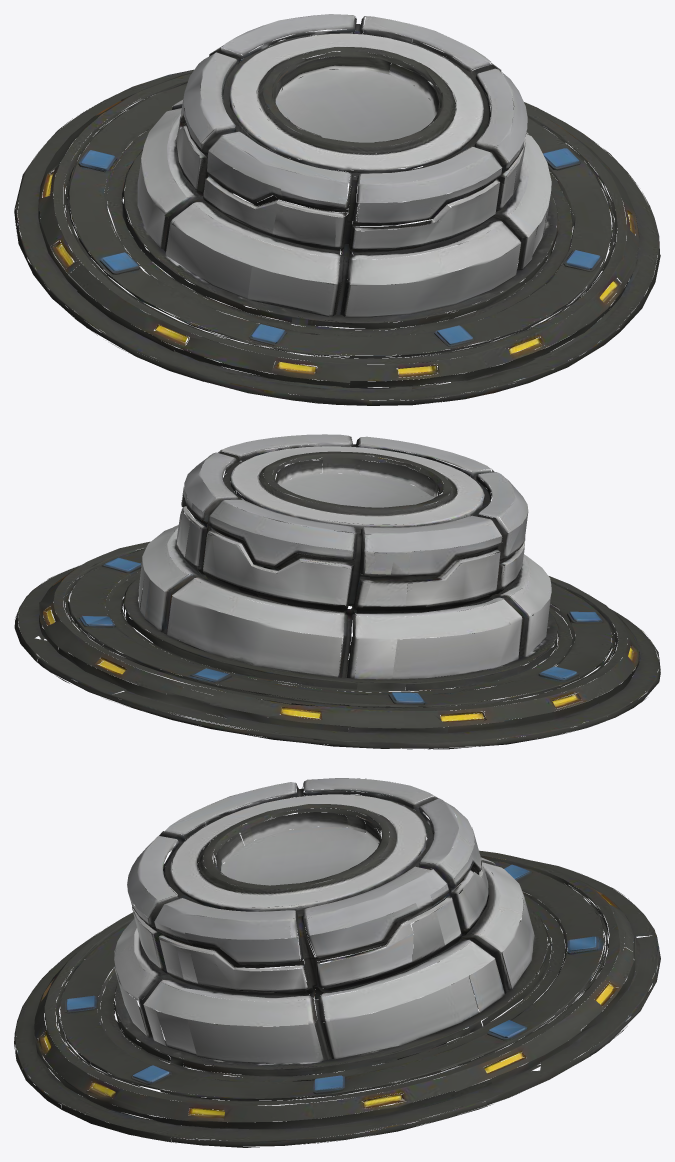
Rendered from turret_base.glb.
The picture shows the model from 3 angles, top to bottom: view 1: azimuth 30°, elevation 25°; view 2: azimuth 150°, elevation 25°; view 3: azimuth 270°, elevation 25°; orthographic projection.
Parts seen in each view (by area): view 1: turret_base; view 2: turret_base; view 3: turret_base.
Part boxes in pixels (left/top/right/bottom): turret_base: left=14, top=14, right=660, bottom=405; turret_base: left=14, top=434, right=660, bottom=749; turret_base: left=14, top=778, right=660, bottom=1147.
Size of the model in its own units: 2.86 by 1.05 by 2.8.
1 material, 1 textured.
